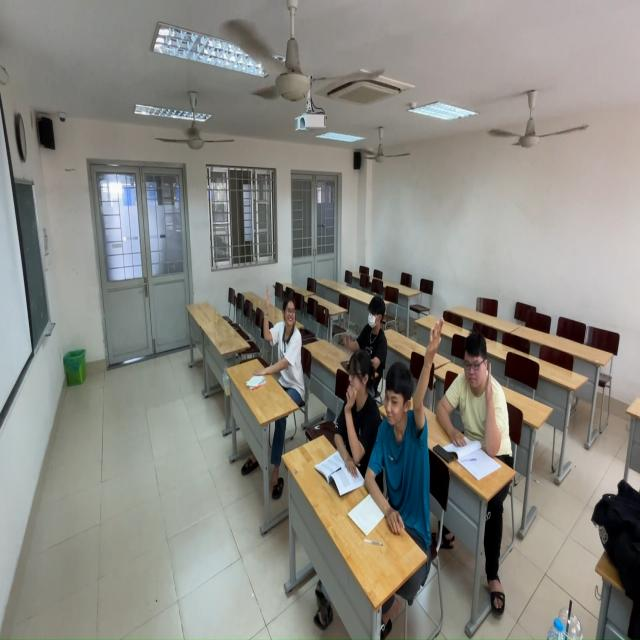raise_hand: (362, 348, 444, 540), (440, 329, 514, 463), (331, 347, 381, 489), (258, 277, 308, 404)
read: (336, 298, 390, 368)
